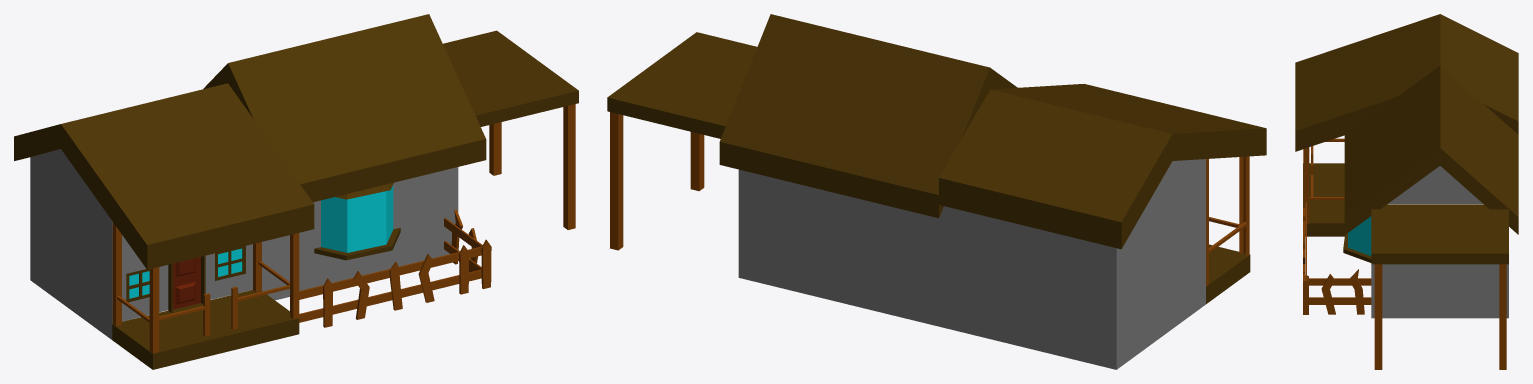
Rendered from CasaSuburbana3.fbx.
3 views of the same model, side by side, from view 1: azimuth 30°, elevation 25°; view 2: azimuth 150°, elevation 25°; view 3: azimuth 270°, elevation 25° (orthographic). The views are drawn at different scales.
Visible parts, largest first — view 1: CasaSuburbana3; view 2: CasaSuburbana3; view 3: CasaSuburbana3.
Part boxes in pixels (x1,y1,x2,y2): CasaSuburbana3: (14, 14, 578, 369); CasaSuburbana3: (607, 14, 1266, 369); CasaSuburbana3: (1295, 14, 1518, 369).
Bounding box in the file's own units: 1936 × 822 × 935.
